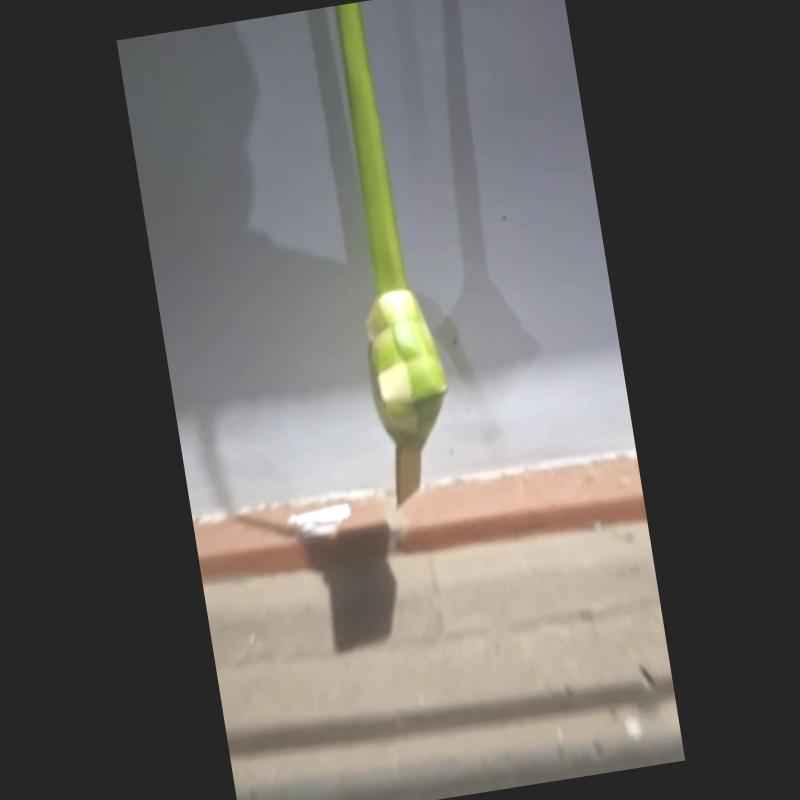Tipat Nasi: (359, 283, 455, 500)
